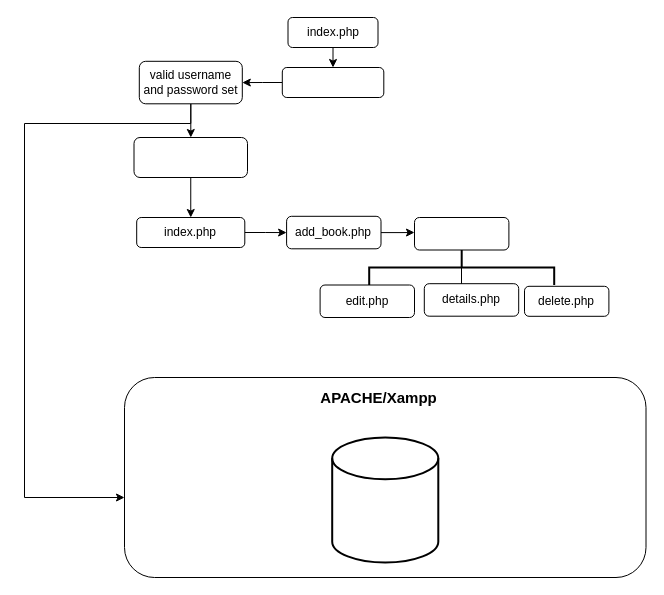
The diagram is 664 pixels wide and 595 high, and some of its shapes have lost their labels. Here are the shapes that lost their labels. From the top down, the centre of each, then its label:
[332,82]: register.php
[190,157]: login.php
[461,233]: book_list.php
[385,499]: book_catalog.db
